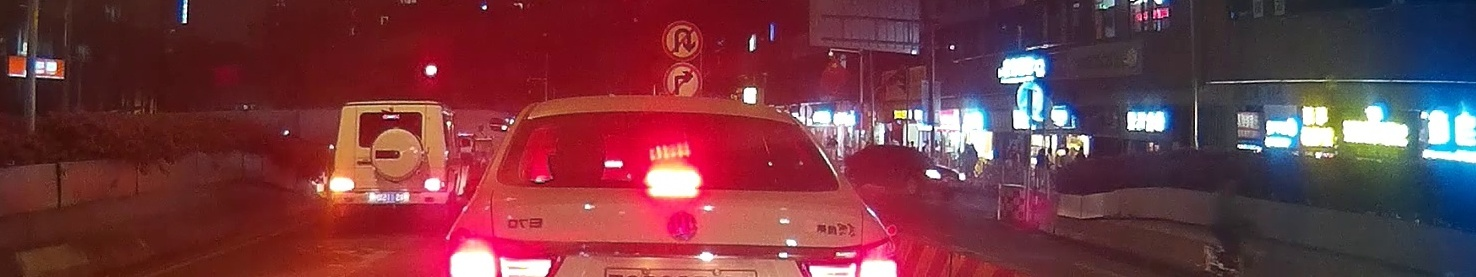L_light: (449, 236, 566, 277), (331, 179, 353, 191)
R_light: (795, 237, 896, 277), (424, 179, 447, 192)
T_light: (648, 173, 701, 188), (381, 114, 400, 118)
night-brake: (448, 95, 897, 277)
night-left: (327, 100, 448, 229)
